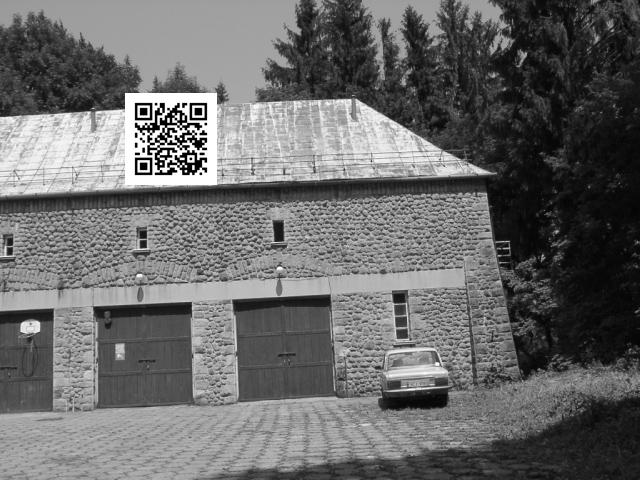qr_code: (127, 95, 213, 181)
